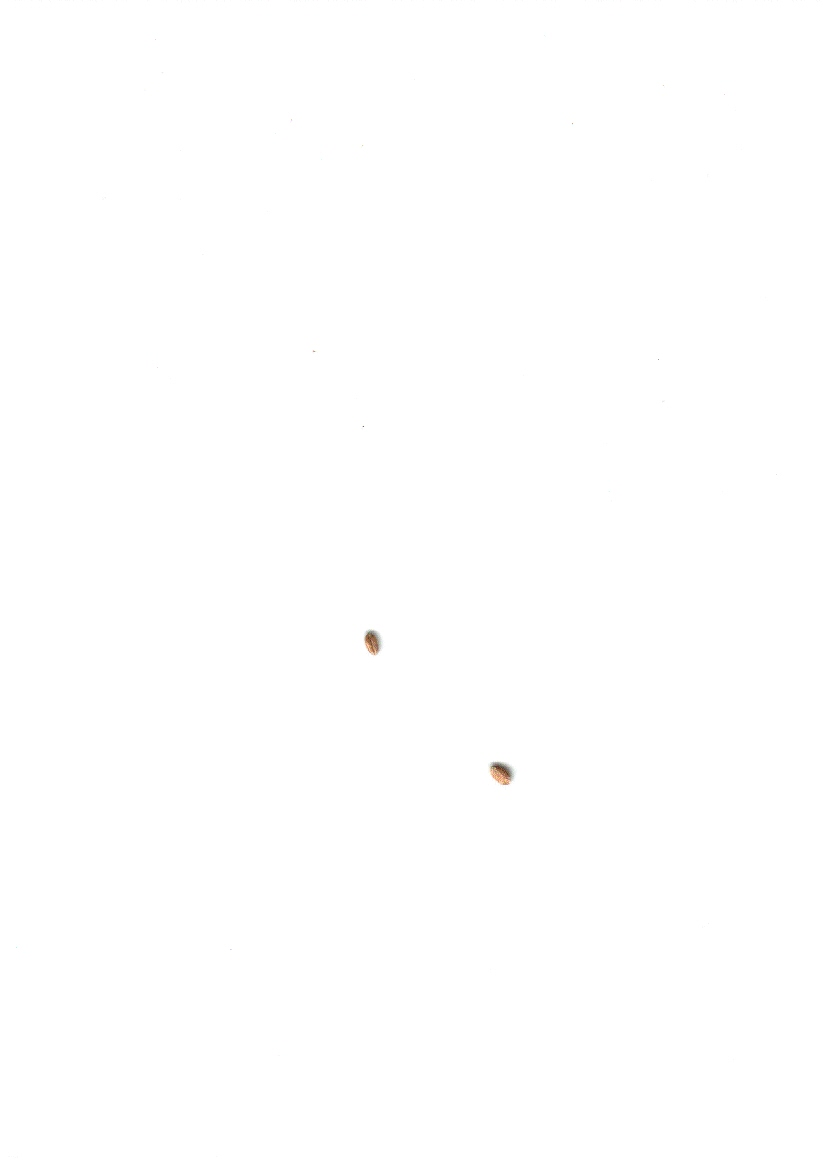grains: (350, 615, 397, 667), (484, 742, 523, 803)
